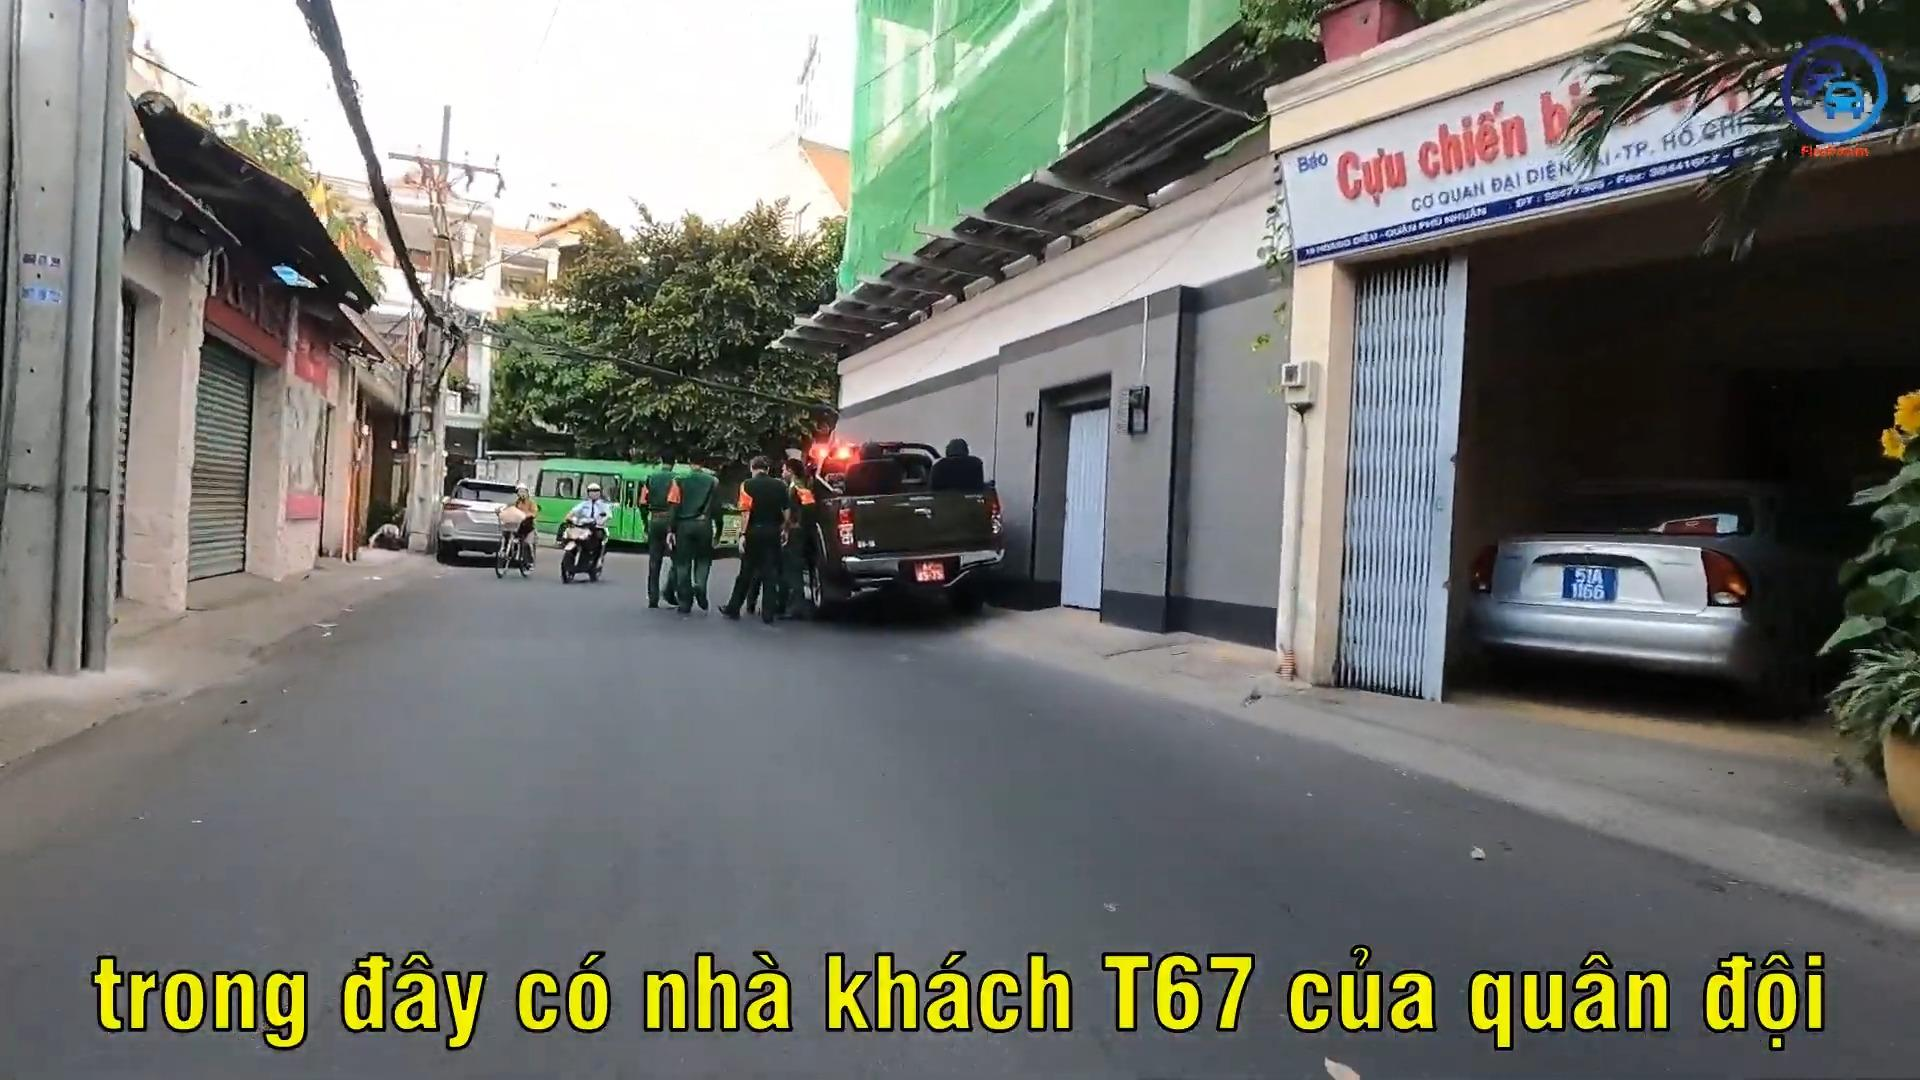bien_so: (912, 558, 946, 583)
